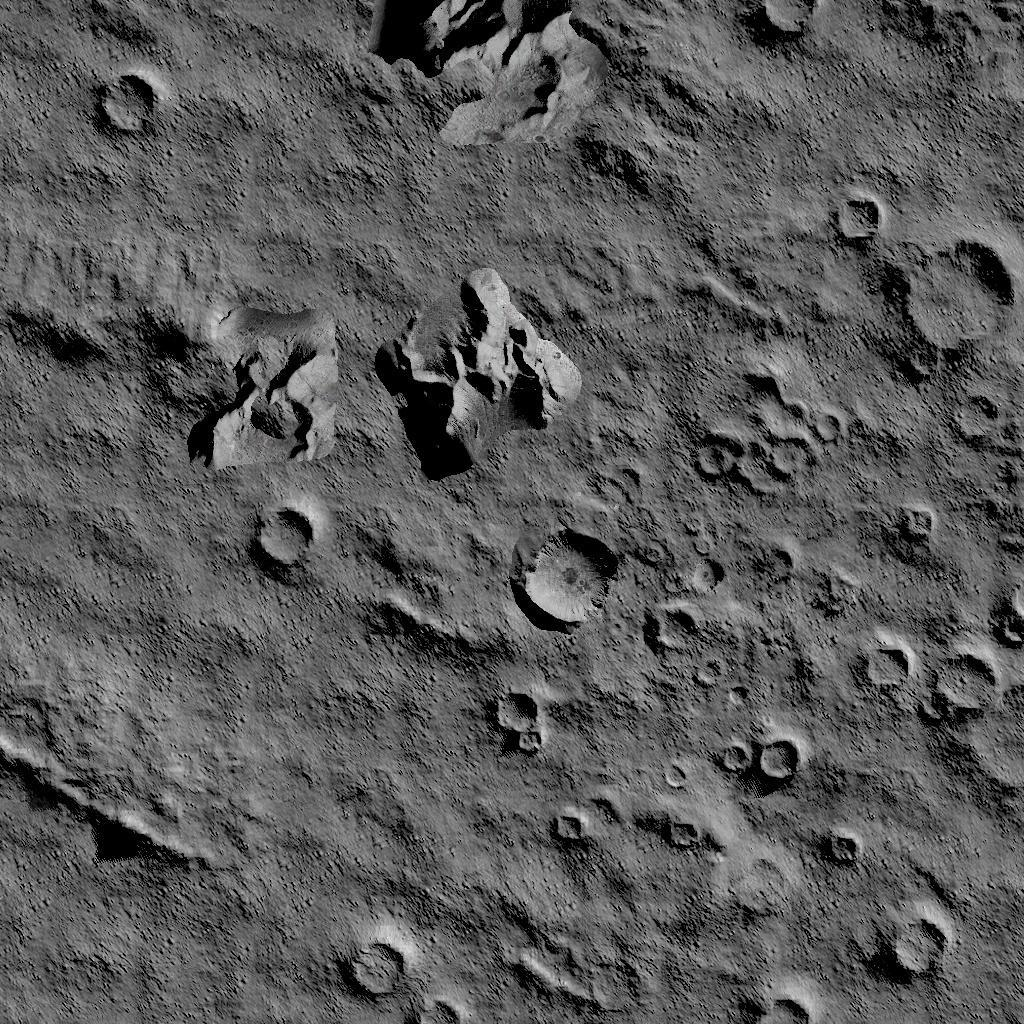Boulders: (0, 248, 345, 472), (375, 0, 686, 203), (380, 270, 584, 486), (0, 746, 214, 868), (358, 526, 494, 654)
Crater: (851, 566, 1024, 792), (894, 234, 1024, 446), (681, 360, 833, 504), (508, 510, 626, 638), (341, 916, 470, 1024), (242, 490, 330, 592), (644, 550, 724, 654), (865, 898, 953, 991), (89, 68, 171, 155), (706, 722, 800, 792), (734, 0, 828, 59), (480, 678, 548, 756), (820, 188, 884, 262), (724, 974, 818, 1024), (652, 798, 704, 850), (812, 814, 860, 870), (888, 498, 937, 550), (544, 800, 588, 846)
Plan surface: (4, 880, 324, 1024), (6, 488, 234, 684), (253, 670, 457, 856), (194, 6, 348, 228), (727, 76, 1024, 164)
